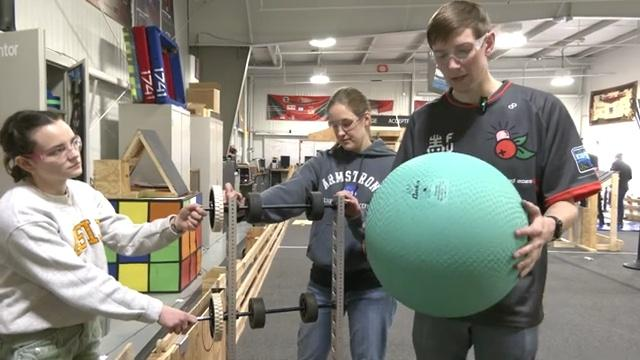algae: (363, 150, 530, 318)
